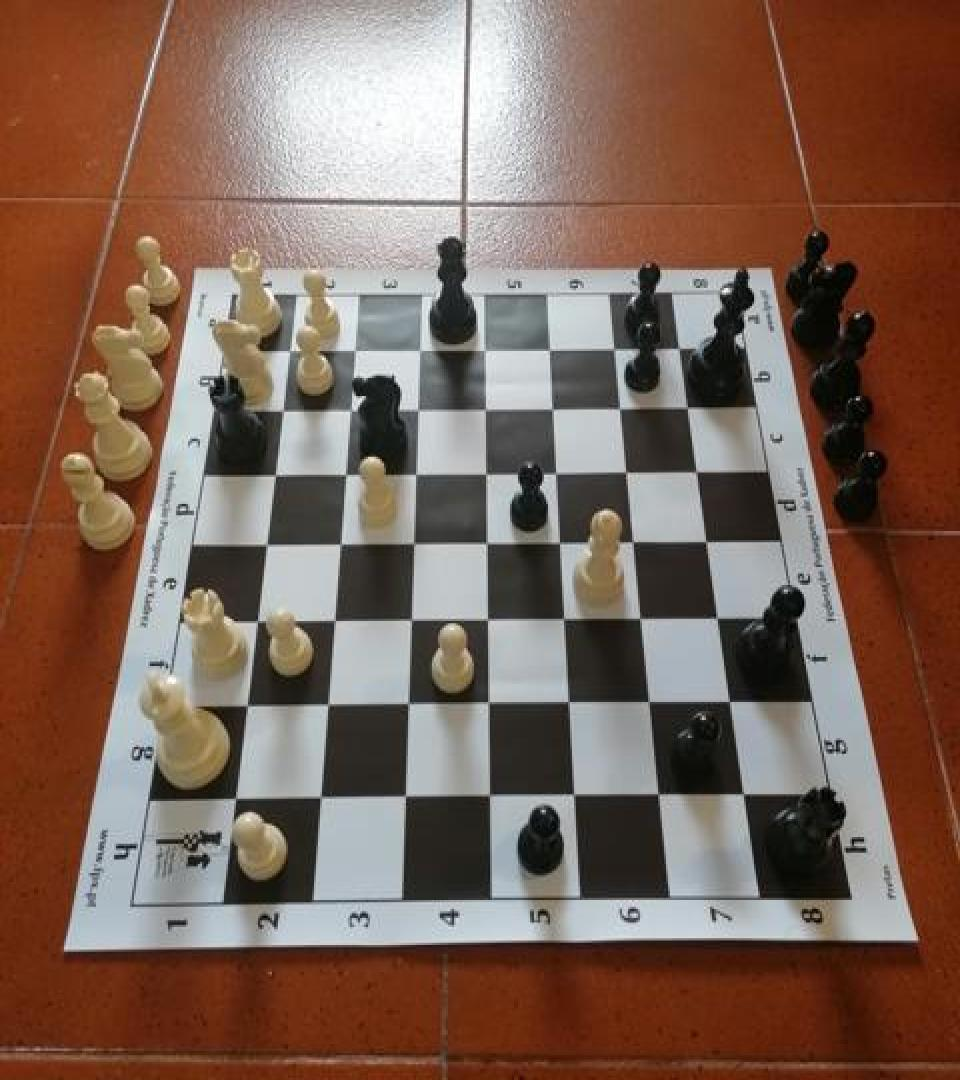xcorner: (669, 334, 699, 368), (604, 334, 634, 368), (538, 333, 568, 367), (471, 333, 501, 367), (405, 333, 435, 367), (338, 333, 368, 367), (271, 333, 301, 367), (678, 394, 708, 428), (610, 394, 640, 428), (541, 394, 571, 428), (472, 394, 502, 428), (403, 394, 433, 428), (334, 394, 364, 428), (264, 394, 294, 428), (687, 459, 717, 493), (616, 459, 646, 493), (545, 459, 575, 493), (473, 459, 503, 493), (401, 459, 431, 493), (329, 459, 359, 493), (257, 459, 287, 493), (697, 528, 727, 562), (623, 528, 653, 562), (549, 528, 579, 562), (474, 530, 504, 564), (399, 530, 429, 564), (324, 530, 354, 564), (248, 530, 278, 564), (708, 605, 738, 639), (631, 605, 661, 639), (553, 606, 583, 640), (475, 606, 505, 640), (397, 606, 427, 640), (318, 608, 348, 642), (239, 608, 269, 642), (639, 690, 669, 724), (558, 690, 588, 724), (476, 690, 506, 724), (394, 690, 424, 724), (312, 692, 342, 726), (230, 692, 260, 726), (733, 780, 763, 814), (648, 780, 678, 814), (563, 782, 593, 816), (478, 783, 508, 817), (392, 783, 422, 817), (305, 784, 335, 818), (219, 785, 249, 819), (720, 689, 750, 722)
